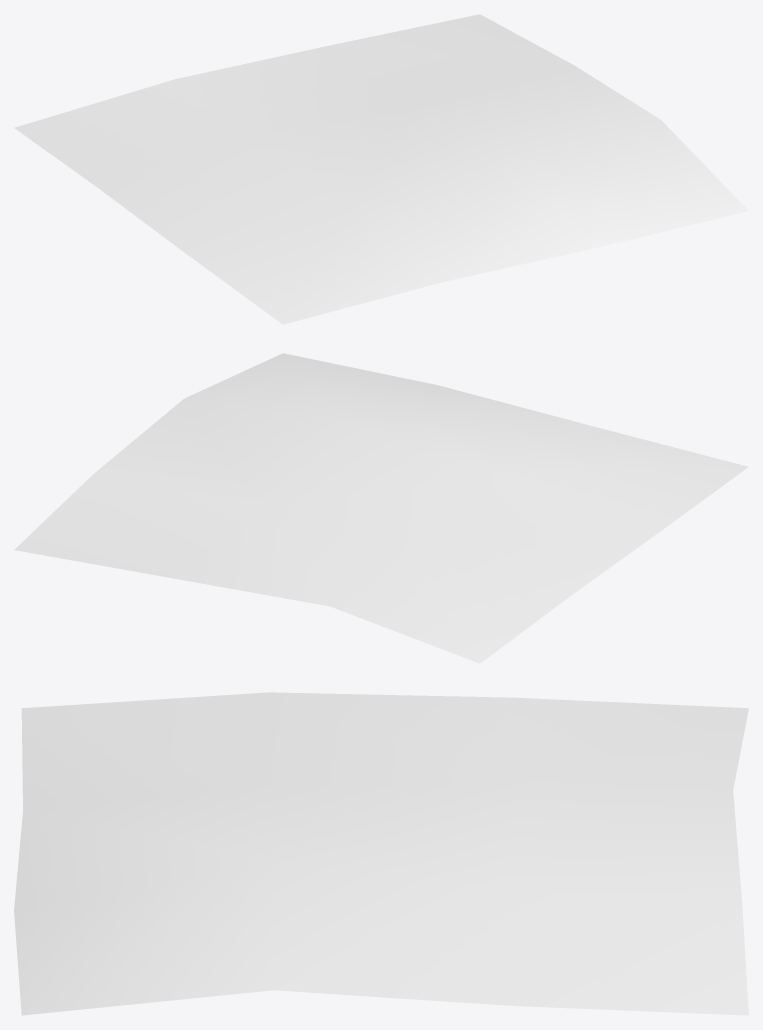
The model's file is SM_Env_Flowers_Flat_01.glb.
3 renders of one model, top to bottom at view 1: azimuth 30°, elevation 25°; view 2: azimuth 150°, elevation 25°; view 3: azimuth 270°, elevation 25°, orthographic. The views are drawn at different scales.
Visible parts, largest first — view 1: SM_Env_Flowers_Flat_01; view 2: SM_Env_Flowers_Flat_01; view 3: SM_Env_Flowers_Flat_01.
Boxes of the visible parts, <box> form: SM_Env_Flowers_Flat_01: <box>14,14,748,324</box>; SM_Env_Flowers_Flat_01: <box>14,353,748,663</box>; SM_Env_Flowers_Flat_01: <box>14,692,748,1015</box>.
Bounding box in the file's own units: 2.07 × 0.1425 × 2.02.
1 material, 1 textured.
